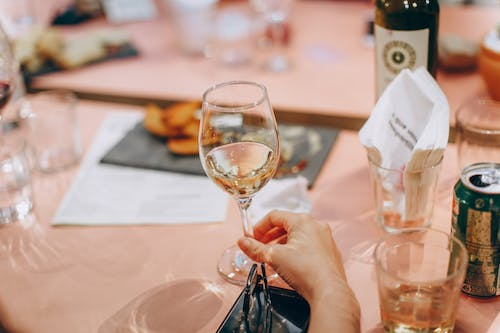alcohol: (198, 80, 281, 285), (373, 226, 469, 333), (446, 162, 500, 299), (373, 0, 440, 107)
